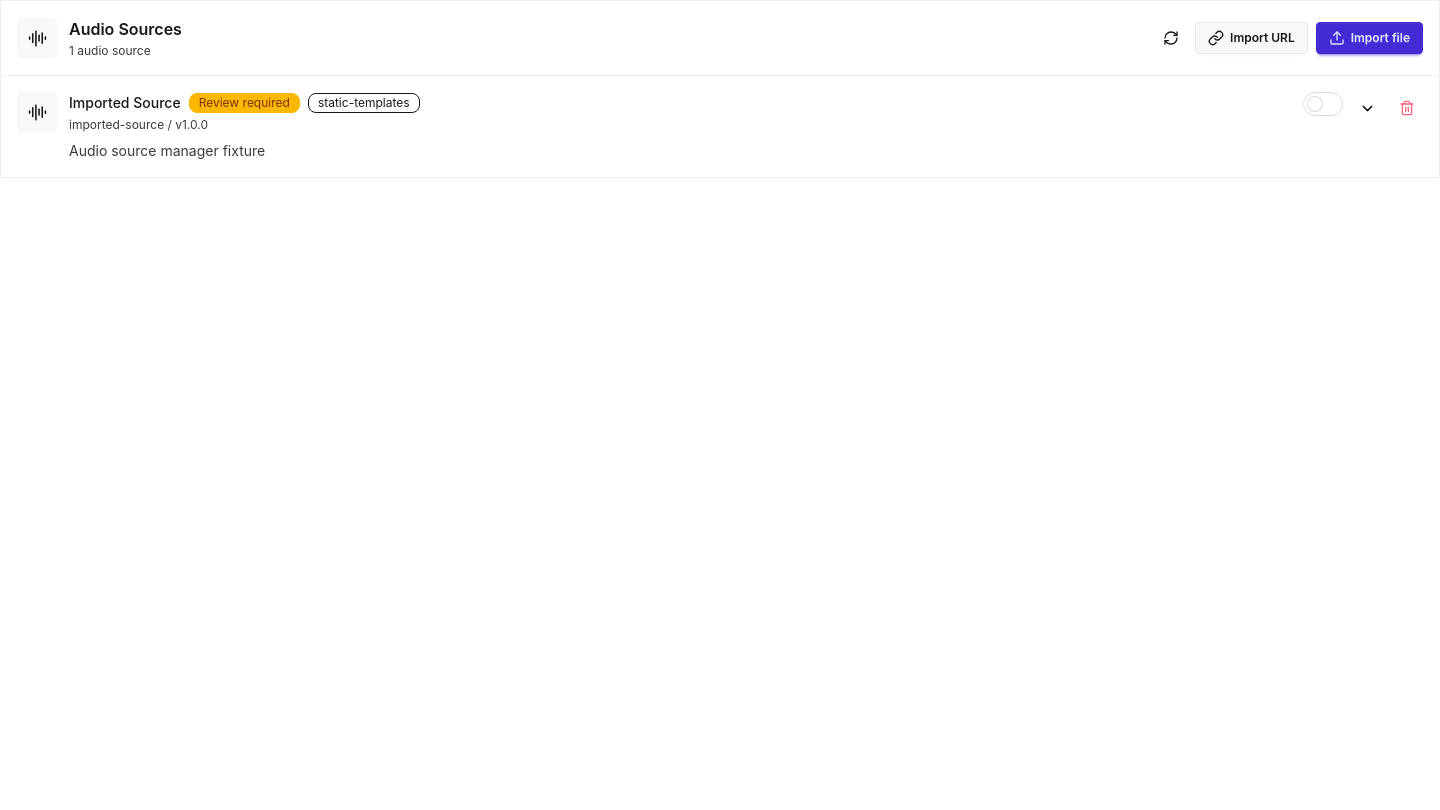
Test: AudioSourceManager › checks every catalog source with one action and keeps failures visible
The width and height of the screenshot is (1440, 810).
Click the button named "Inspect Imported Source".
click(1367, 108)  # box [1351,92,1383,124]
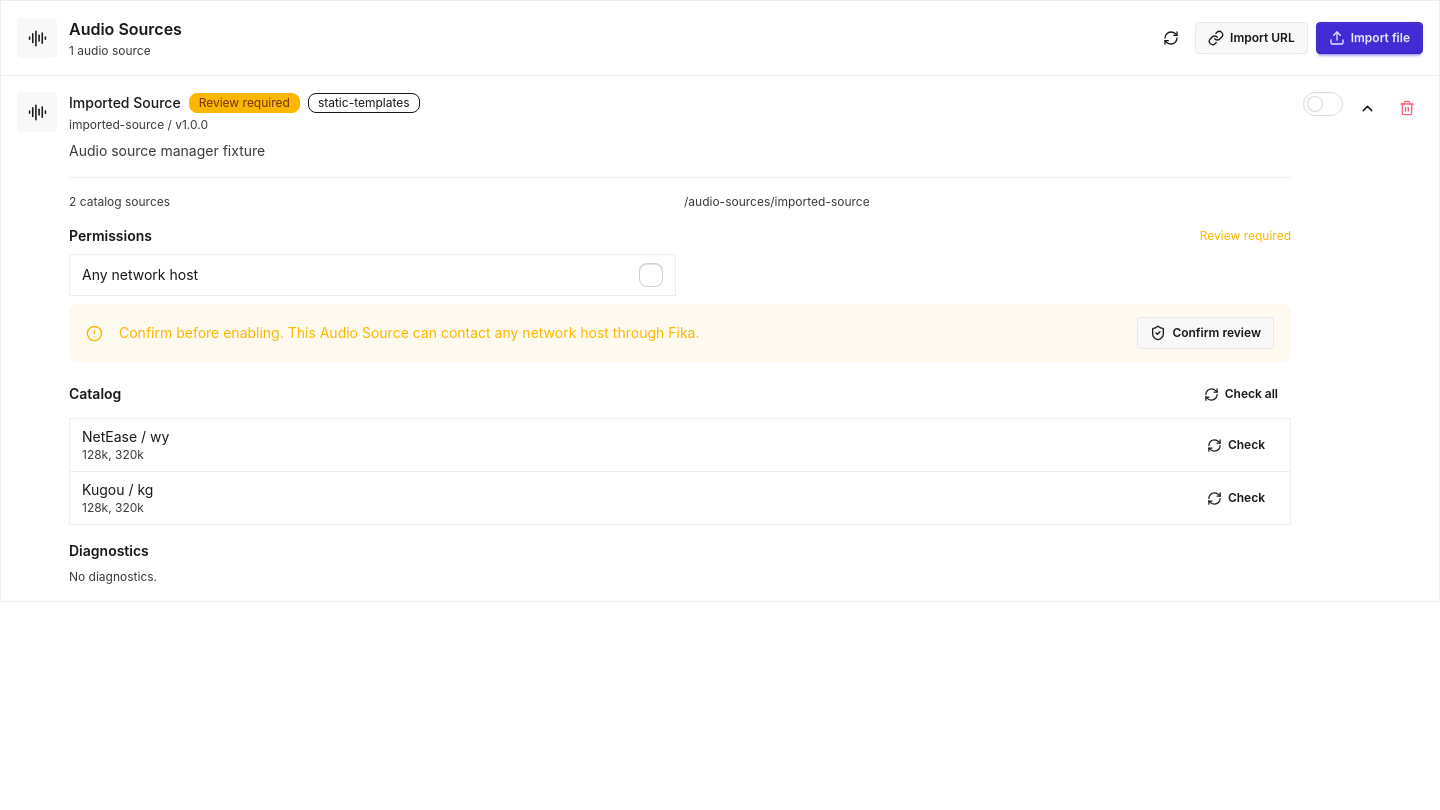
Click the button "Check all".
click(1241, 394)  # box [1191,378,1291,410]
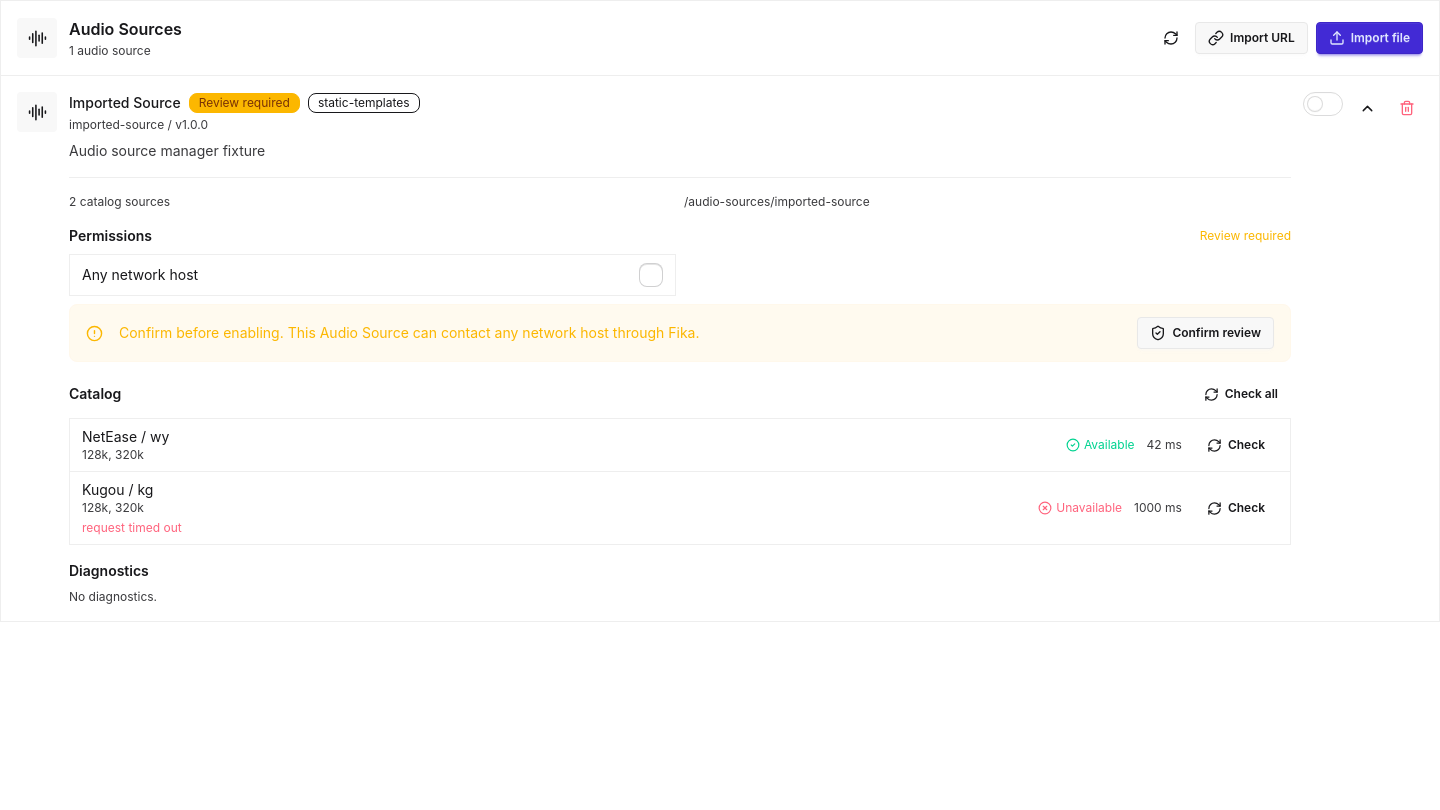
Check: the text "Available" is shown, box [1066,437,1135,453]
Check: the text "Unavailable" is shown, box [1038,500,1122,516]
Check: the text "request timed out" is shown, box [82,520,182,536]
